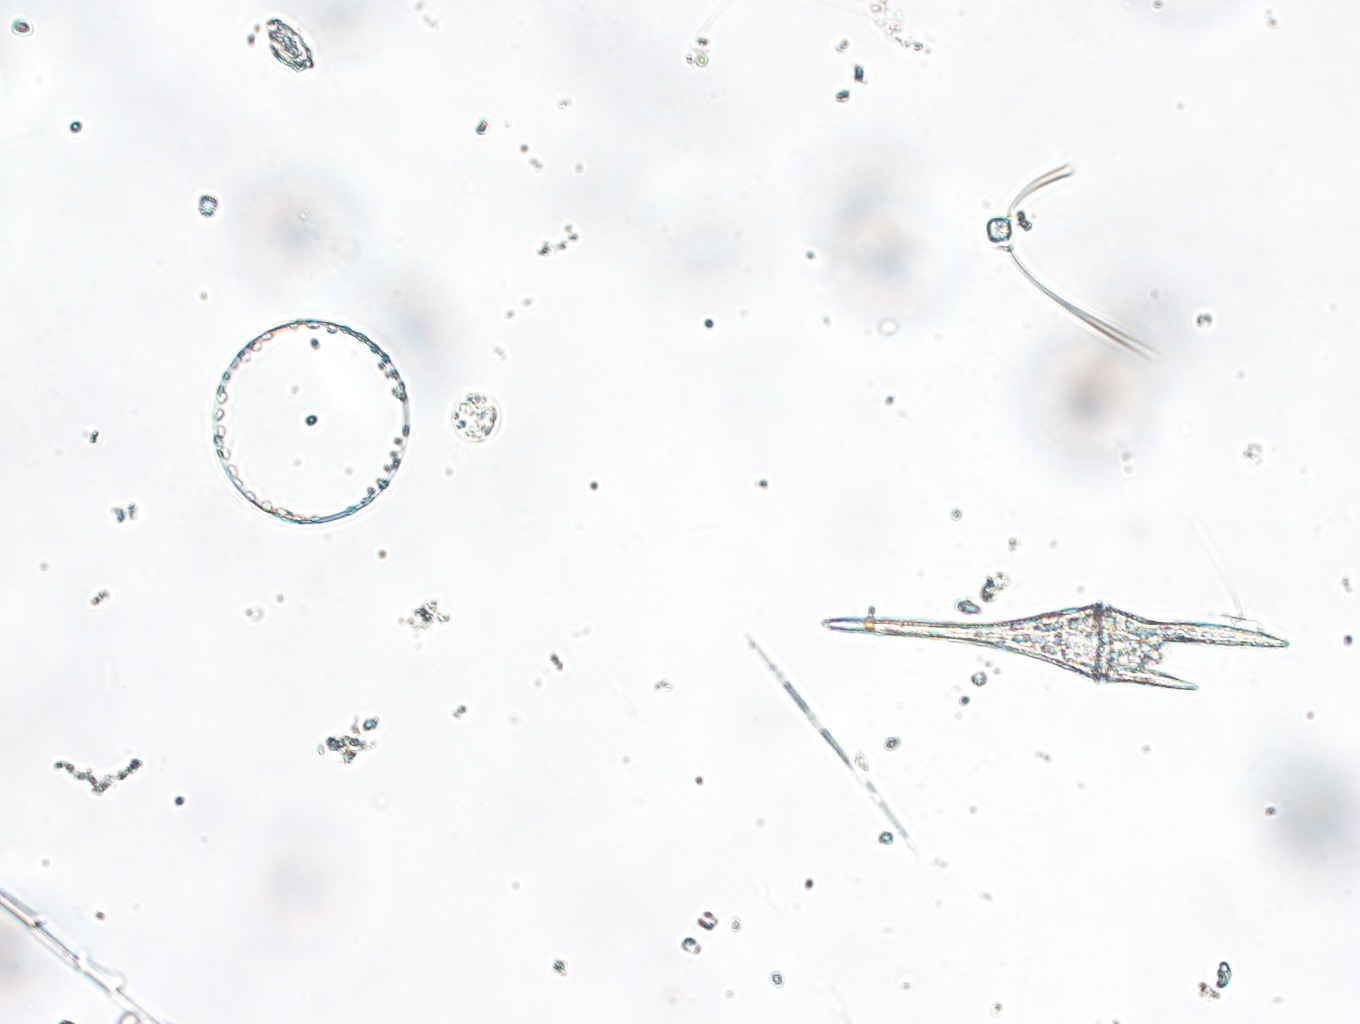ceratium furca: (822, 603, 1289, 689)
chaetoceros: (985, 162, 1162, 361)
coscinodiscus: (211, 321, 409, 524)
